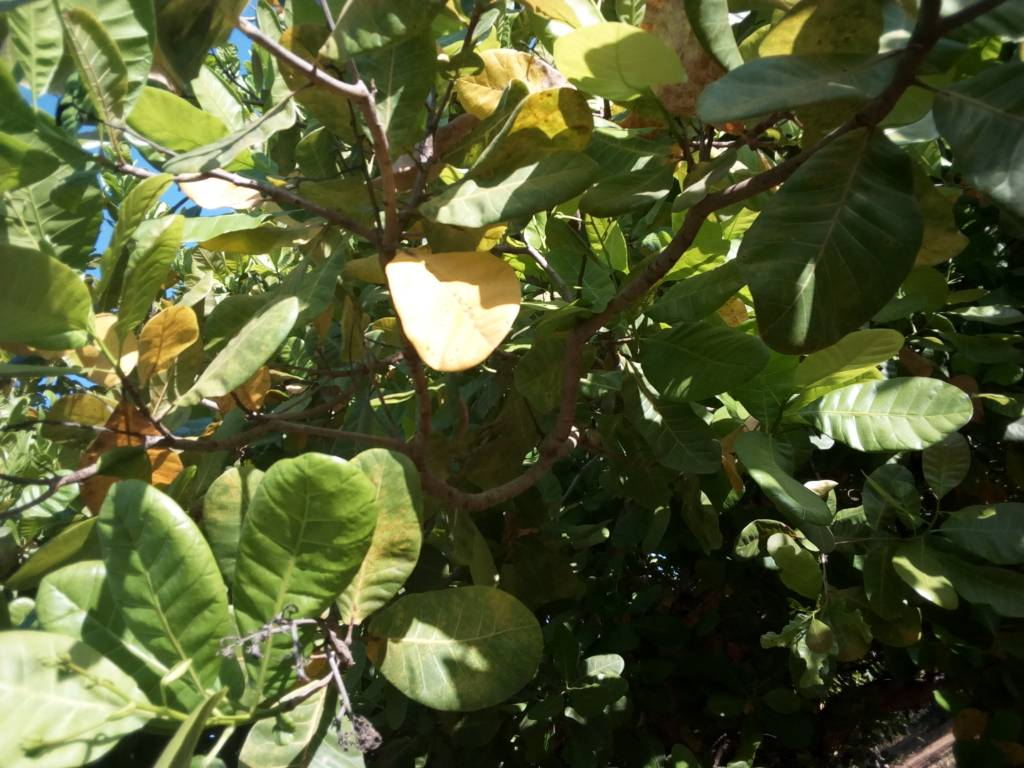Dessèchement des bourgeons: (220, 621, 385, 750)
